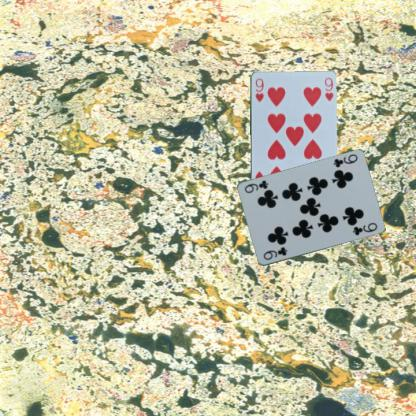9c: (330, 152, 359, 169), (261, 244, 288, 262)
9h: (252, 76, 264, 103)
